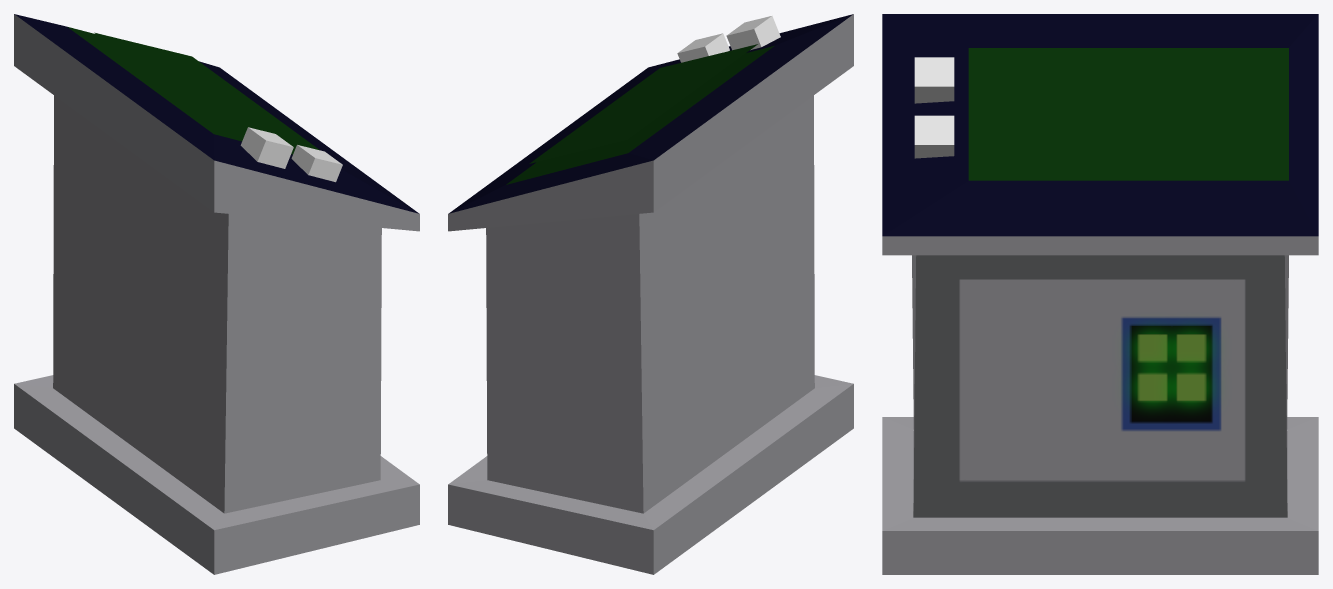
File: PRSW_Computer.FBX
3 renders of one model, left to right at view 1: azimuth 30°, elevation 25°; view 2: azimuth 150°, elevation 25°; view 3: azimuth 270°, elevation 25°, orthographic. The views are drawn at different scales.
Parts seen in each view (by area): view 1: PRSW_Computer, PRSW_Computer_Plane_Text, PRSW_Computer_01, PRSW_Computer_02; view 2: PRSW_Computer, PRSW_Computer_Plane_Text, PRSW_Computer_01, PRSW_Computer_02; view 3: PRSW_Computer, PRSW_Computer_Plane_Text, PRSW_Computer_01, PRSW_Computer_02.
Boxes of the visible parts, x1,y1,x2,y2 form: PRSW_Computer: [14, 14, 419, 574]; PRSW_Computer_Plane_Text: [94, 32, 319, 150]; PRSW_Computer_01: [240, 127, 293, 168]; PRSW_Computer_02: [291, 145, 342, 182]; PRSW_Computer: [448, 14, 853, 574]; PRSW_Computer_Plane_Text: [529, 44, 757, 163]; PRSW_Computer_01: [726, 16, 780, 50]; PRSW_Computer_02: [677, 33, 729, 62]; PRSW_Computer: [882, 14, 1318, 574]; PRSW_Computer_Plane_Text: [974, 55, 1260, 159]; PRSW_Computer_01: [914, 57, 954, 103]; PRSW_Computer_02: [914, 115, 954, 158].
Bounding box in the file's own units: 0.587 × 1.13 × 0.9894.
